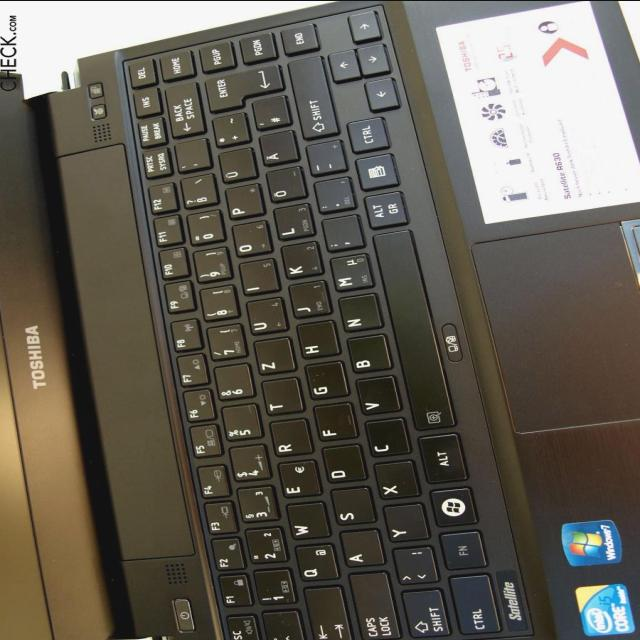0: (184, 213, 223, 247)
1: (251, 570, 295, 608)
2: (241, 528, 285, 566)
3: (234, 487, 276, 525)
4: (225, 446, 269, 484)
5: (219, 406, 259, 444)
6: (211, 365, 252, 403)
7: (204, 325, 244, 362)
8: (197, 287, 237, 323)
9: (190, 249, 230, 285)
a: (337, 531, 383, 569)
accent: (172, 141, 209, 174)
ae: (256, 132, 297, 168)
alt-left: (414, 434, 464, 486)
altgr-right: (360, 193, 405, 231)
b: (344, 336, 390, 376)
c: (361, 420, 408, 458)
caret: (257, 612, 302, 640)
comma: (318, 217, 362, 254)
d: (319, 446, 365, 484)
del: (162, 84, 203, 141)
e: (275, 461, 319, 500)
enter: (200, 64, 283, 114)
f: (310, 405, 356, 443)
g: (302, 363, 347, 402)
h: (292, 323, 338, 361)
hash: (248, 97, 288, 132)
i: (236, 261, 277, 297)
j: (285, 282, 329, 320)
k: (277, 244, 321, 281)
keyboard: (112, 0, 556, 640)
l: (270, 205, 312, 241)
less: (389, 548, 436, 587)
m: (326, 256, 371, 294)
minus: (302, 142, 344, 178)
n: (335, 296, 380, 334)
o: (229, 224, 269, 260)
oe: (263, 169, 305, 205)
p: (222, 186, 262, 221)
plus: (209, 115, 248, 149)
point: (311, 179, 353, 215)
q: (292, 545, 338, 583)
r: (267, 421, 311, 459)
s: (327, 489, 374, 528)
shift-left: (399, 590, 450, 640)
shift-lock: (344, 573, 398, 640)
shift-right: (284, 60, 336, 144)
space: (365, 228, 454, 437)
ss: (177, 176, 215, 210)
strg-left: (444, 576, 498, 637)
strg-right: (343, 119, 387, 155)
t: (258, 379, 302, 417)
tab: (300, 587, 351, 640)
u: (243, 300, 285, 338)
ue: (215, 150, 255, 184)
v: (352, 377, 398, 417)
w: (283, 504, 328, 542)
x: (371, 462, 417, 502)
y: (380, 506, 427, 544)
z: (250, 340, 294, 377)
